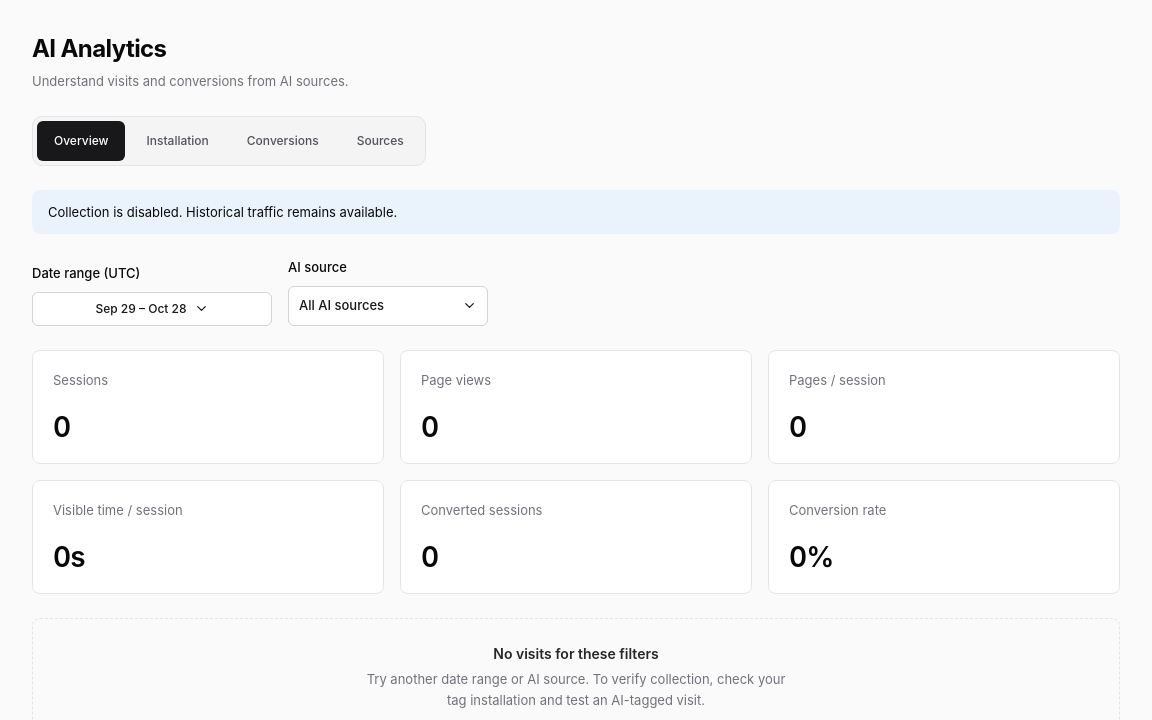
it: analytics date range › selects an inclusive seven-day range ending today in UTC
Click the button named "Date range (UTC)".
click(152, 309)  # box [32, 292, 272, 326]
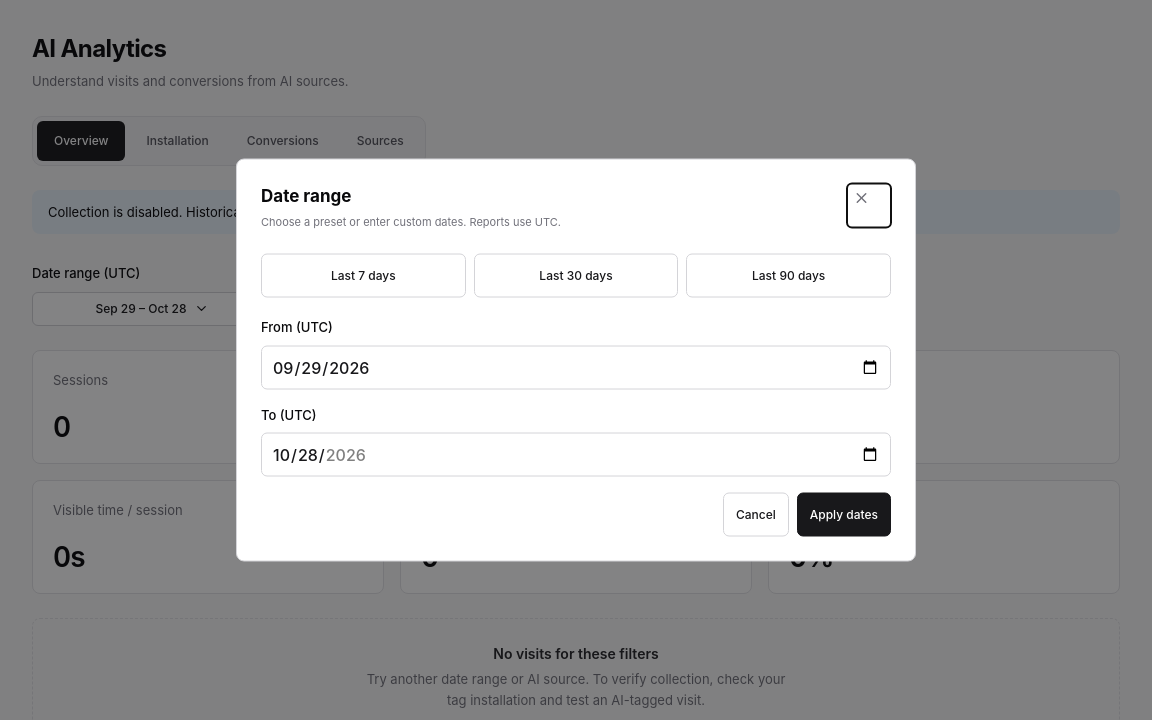
Click the button "Last 7 days".
click(363, 276)  # box [261, 254, 466, 298]
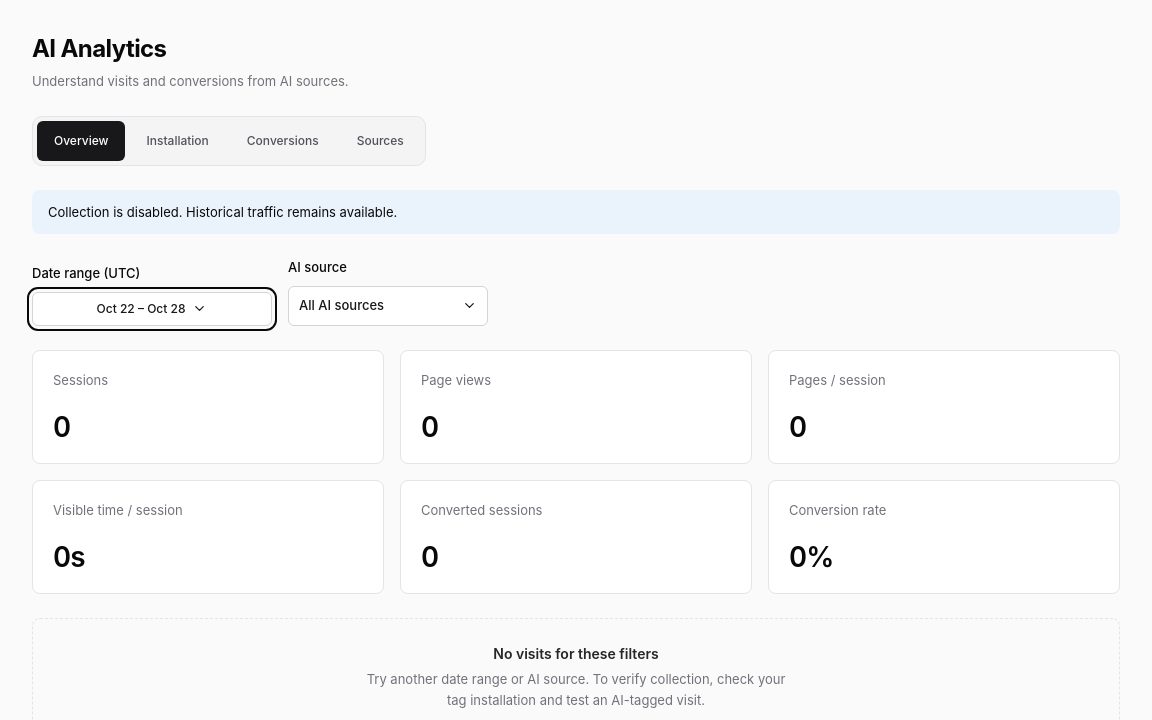
Now the dialog is gone
